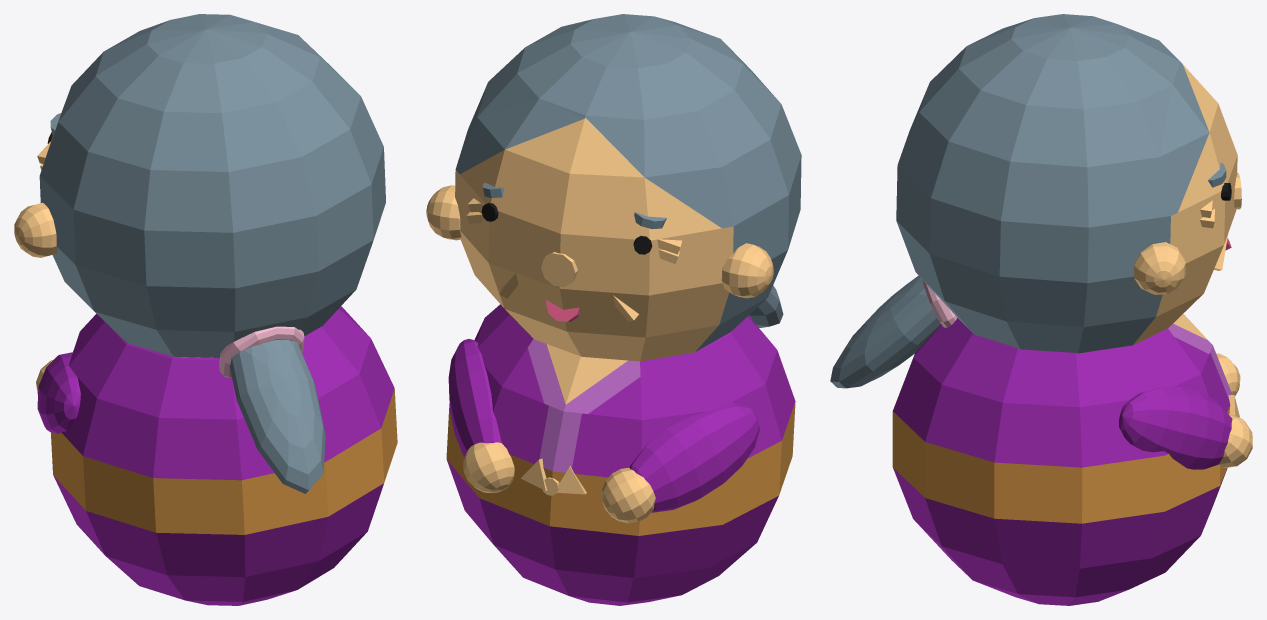
Rendered from Grandmother.glb.
The picture shows the model from 3 angles, left to right: view 1: azimuth 30°, elevation 25°; view 2: azimuth 150°, elevation 25°; view 3: azimuth 270°, elevation 25°; orthographic projection.
Visible parts, largest first — view 1: group493632763, group18668382, group963400480, group1091821731, group1828529698, group977702199; view 2: group493632763, group18668382, group1091821731, group1371417749, group1607855457, group1828529698, group2067725949, group1989472439, group1774754102, group963400480; view 3: group493632763, group18668382, group1371417749, group963400480, group1989472439, group2067725949, group977702199.
Boxes of the visible parts, x1=… form: group493632763: x1=39, y1=14, x2=385, y2=357; group18668382: x1=50, y1=306, x2=397, y2=605; group963400480: x1=229, y1=340, x2=325, y2=493; group1091821731: x1=37, y1=352, x2=80, y2=433; group1828529698: x1=14, y1=202, x2=57, y2=257; group977702199: x1=219, y1=326, x2=304, y2=377; group493632763: x1=455, y1=14, x2=801, y2=361; group18668382: x1=446, y1=304, x2=795, y2=605; group1091821731: x1=629, y1=402, x2=759, y2=512; group1371417749: x1=448, y1=339, x2=501, y2=456; group1607855457: x1=601, y1=467, x2=655, y2=523; group1828529698: x1=721, y1=243, x2=773, y2=298; group2067725949: x1=463, y1=442, x2=514, y2=493; group1989472439: x1=426, y1=185, x2=461, y2=240; group1774754102: x1=541, y1=252, x2=577, y2=287; group963400480: x1=748, y1=285, x2=783, y2=327; group493632763: x1=896, y1=14, x2=1237, y2=353; group18668382: x1=892, y1=313, x2=1232, y2=605; group1371417749: x1=1119, y1=387, x2=1232, y2=469; group963400480: x1=830, y1=275, x2=941, y2=388; group1989472439: x1=1134, y1=242, x2=1185, y2=294; group2067725949: x1=1218, y1=414, x2=1252, y2=467; group977702199: x1=922, y1=280, x2=957, y2=327.
Bounding box in the file's own units: 0.2042 × 0.3344 × 0.2306.
